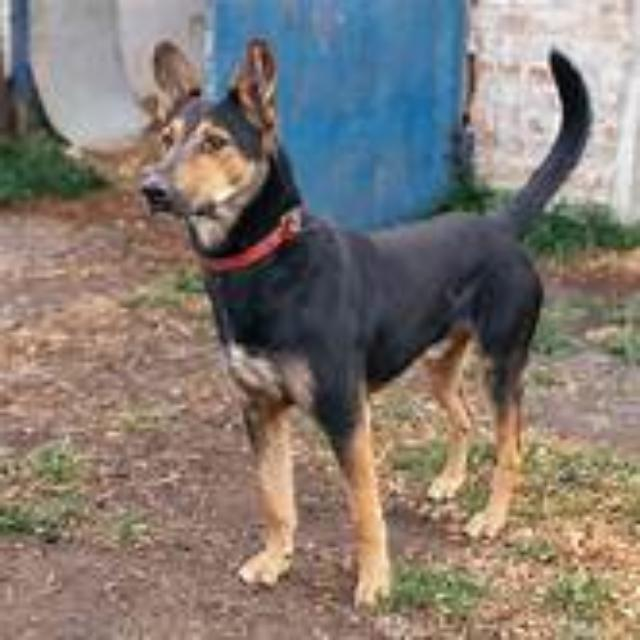dog: (99, 61, 613, 604)
